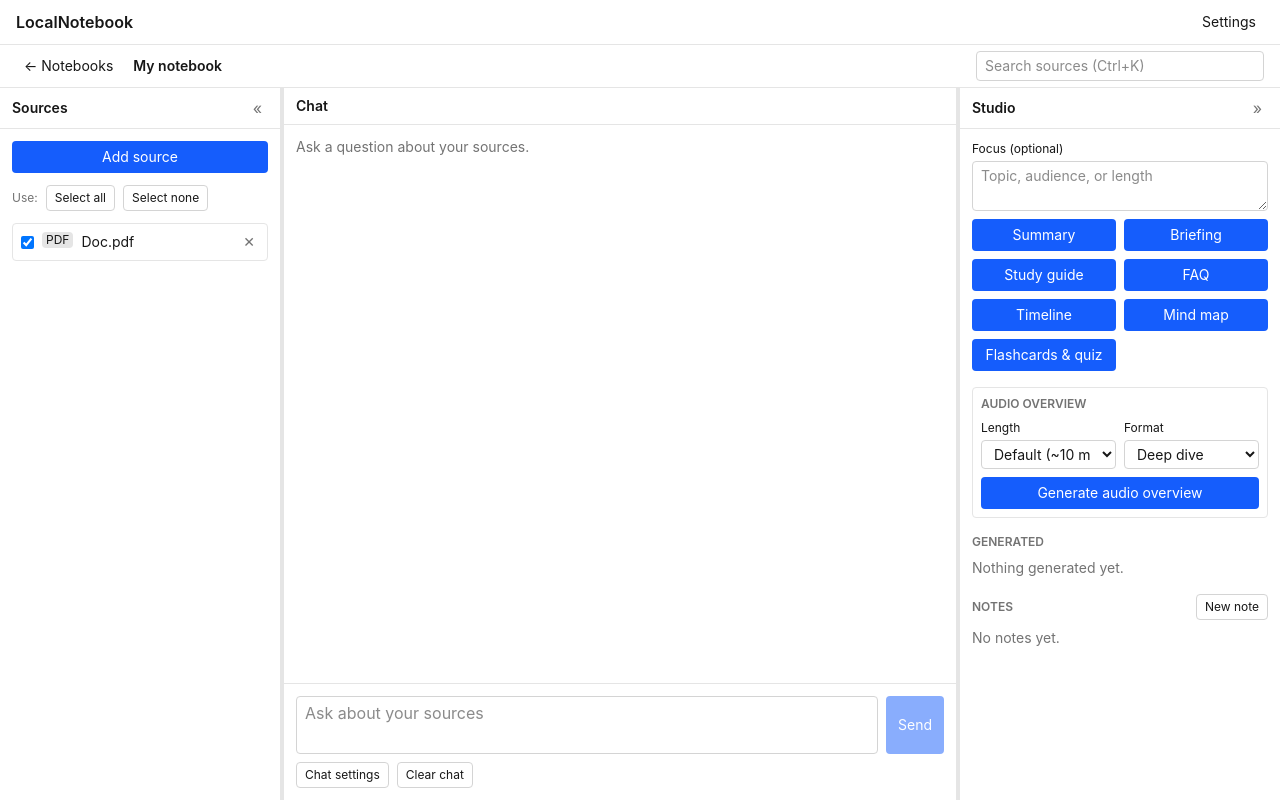
Test: notebook workspace › shows the three panes and can collapse one
Expected: the element "Sources" is shown, top-left (0, 88), bottom-right (280, 261)
Expected: the element "Chat" is shown, top-left (284, 88), bottom-right (956, 799)
Click the button named "Collapse Sources pane": coordinates (257, 108) top-left (247, 96), bottom-right (268, 120)
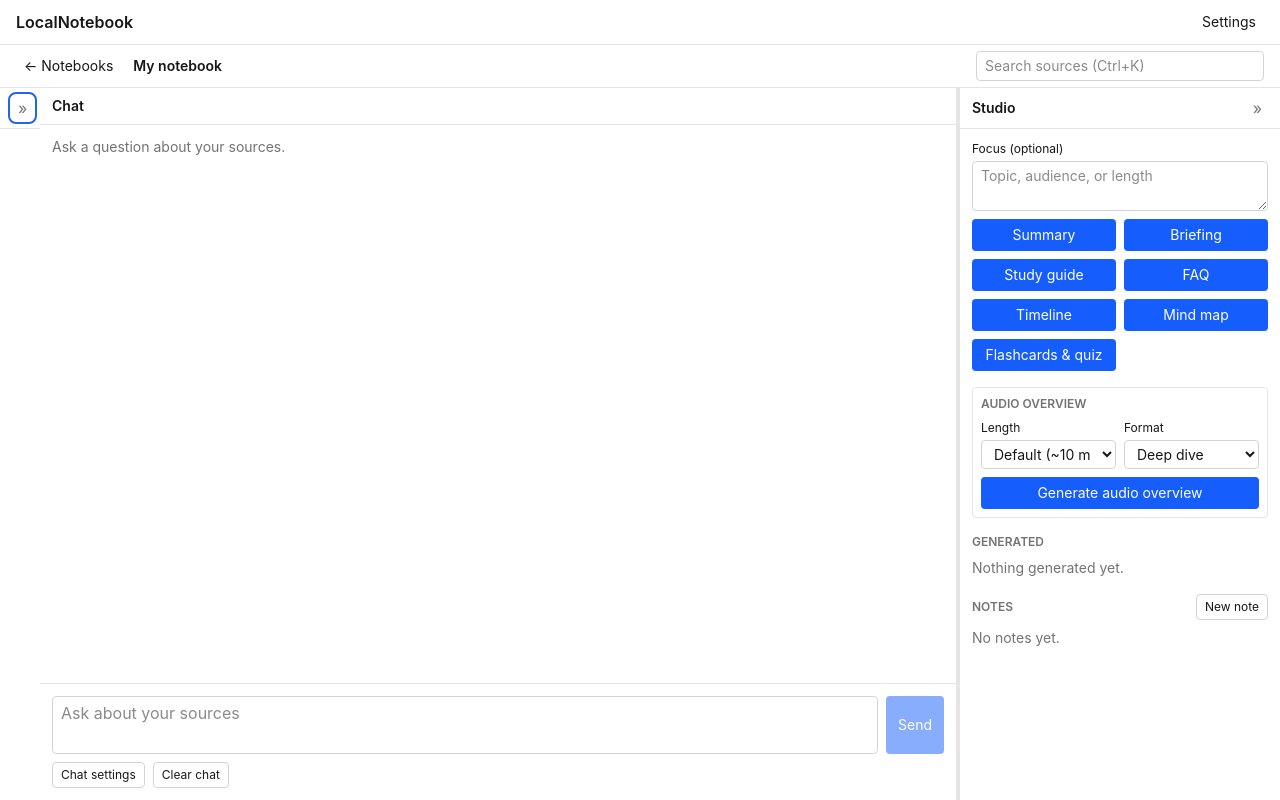
Expected: the button named "Expand Sources pane" is shown, top-left (12, 96), bottom-right (33, 120)
